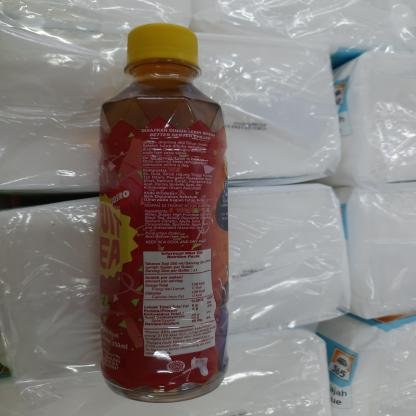plastic: (92, 19, 230, 404)
